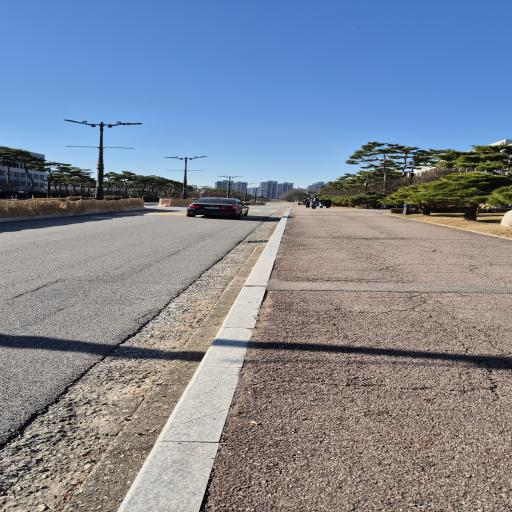drain: (244, 240, 268, 244)
